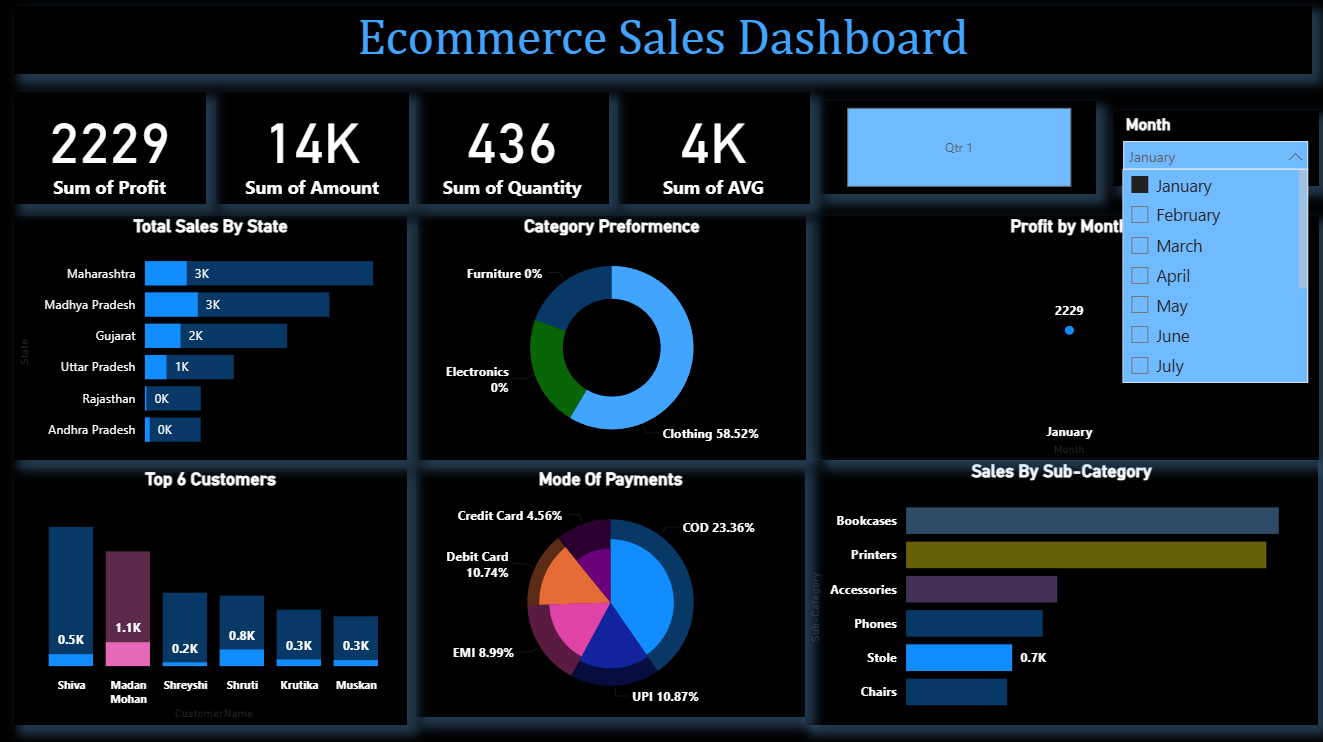

Layout of this report page (visuals, bound fields, positions):
{"tool":"powerbi","page":{"name":"Page 1","canvas":[1280,720],"ordinal":0},"visuals":[{"type":"textbox","box":[13.6,7.3,1252.7,66.4],"z":0},{"type":"card","fields":{"Values":["Sum(Details.Profit)"]},"box":[13.6,90,185.5,108.2],"z":1000},{"type":"card","fields":{"Values":["Sum(Details.Amount)"]},"box":[208.2,90,185.5,108.2],"z":2000},{"type":"card","fields":{"Values":["Sum(Details.Quantity)"]},"box":[401.8,90,185.5,108.2],"z":3000},{"type":"card","fields":{"Values":["Sum(Details.AVG)"]},"box":[596.4,90,185.5,108.2],"z":4000},{"type":"clusteredBarChart","title":"Total Sales By State","fields":{"Y":["Sum(Details.Amount)"],"Category":["Orders.State"]},"box":[13.6,210,380,236.4],"z":5000},{"type":"donutChart","title":"Category Preformence","fields":{"Y":["Sum(Details.Quantity)"],"Category":["Details.Category"]},"box":[402.7,210,375.5,236.4],"z":6000},{"type":"clusteredBarChart","title":"Sales By Sub-Category","fields":{"Category":["Details.Sub-Category"],"Y":["Sum(Details.Profit)"]},"box":[777.3,446.4,495.5,255.5],"z":7000},{"type":"columnChart","title":"Top 6 Customers","fields":{"Y":["Sum(Details.Amount)"],"Category":["Orders.CustomerName"]},"box":[13.6,453.6,380,248.2],"z":8000},{"type":"pieChart","title":"Mode Of Payments","fields":{"Y":["Sum(Details.Quantity)"],"Category":["Details.PaymentMode"]},"box":[401.8,453.6,375.5,240.9],"z":9000},{"type":"lineChart","title":"Profit by Month","fields":{"Category":["Orders.Order Date.Variation.Date Hierarchy.Month"],"Y":["Sum(Details.Profit)"]},"box":[790.9,210,481.8,236.4],"z":10000},{"type":"slicer","fields":{"Values":["Orders.Order Date.Variation.Date Hierarchy.Quarter"]},"box":[790.9,99.1,266.4,90],"z":10001},{"type":"slicer","fields":{"Values":["Orders.Order Date.Variation.Date Hierarchy.Month"]},"box":[1073.6,108.2,199.1,72.7],"z":10002}]}

Visuals, with their boxes in screenshot pixels (x1, y1, x2, y2), scaled from the page's 1280x720 canvas onto the 1323x742 screenshot:
textbox: crop(14, 8, 1309, 76)
card - Sum(Details.Profit): crop(14, 93, 206, 204)
card - Sum(Details.Amount): crop(215, 93, 407, 204)
card - Sum(Details.Quantity): crop(415, 93, 607, 204)
card - Sum(Details.AVG): crop(616, 93, 808, 204)
"Total Sales By State" clusteredBarChart: crop(14, 216, 407, 460)
"Category Preformence" donutChart: crop(416, 216, 804, 460)
"Sales By Sub-Category" clusteredBarChart: crop(803, 460, 1316, 723)
"Top 6 Customers" columnChart: crop(14, 467, 407, 723)
"Mode Of Payments" pieChart: crop(415, 467, 803, 716)
"Profit by Month" lineChart: crop(817, 216, 1315, 460)
slicer - Orders.Order Date.Variation.Date Hierarchy.Quarter: crop(817, 102, 1093, 195)
slicer - Orders.Order Date.Variation.Date Hierarchy.Month: crop(1110, 112, 1315, 186)
